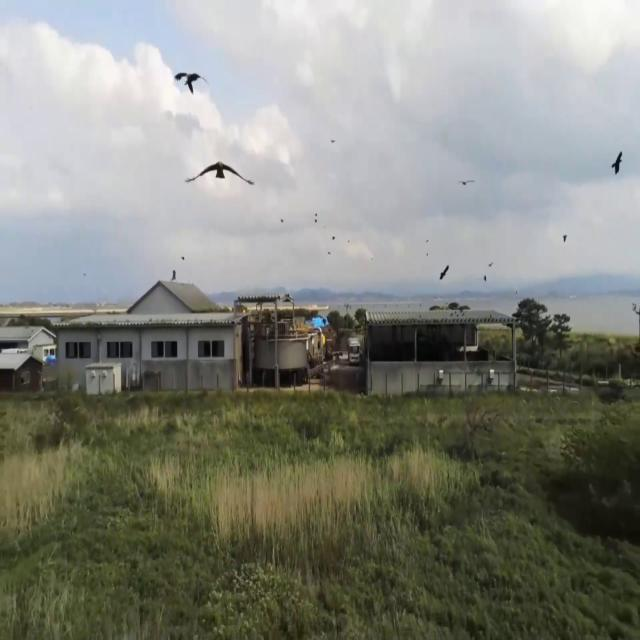bird: (188, 137, 248, 202), (173, 54, 205, 110), (200, 157, 237, 189), (438, 256, 450, 289), (458, 170, 473, 192)
